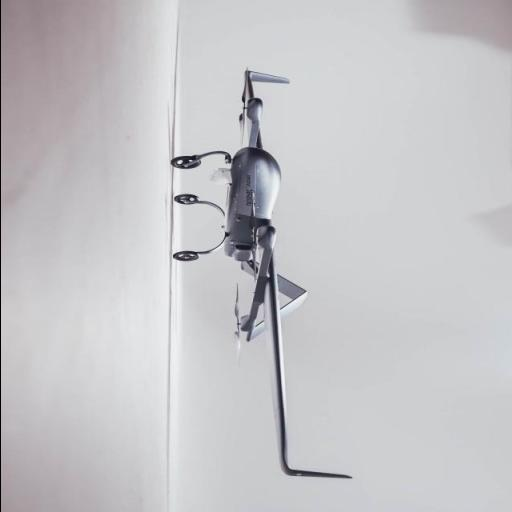uav: (161, 60, 353, 482)
